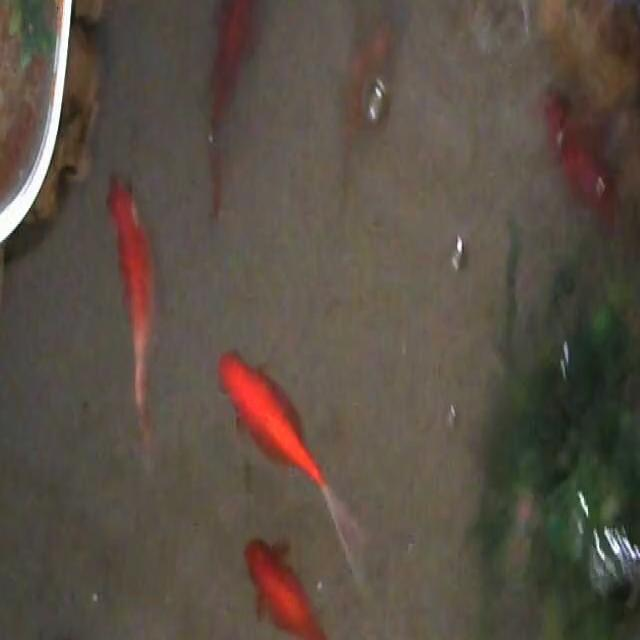fish: (218, 351, 368, 586), (105, 175, 159, 447), (201, 0, 261, 220), (540, 83, 621, 233), (244, 533, 349, 640), (339, 11, 395, 200)
